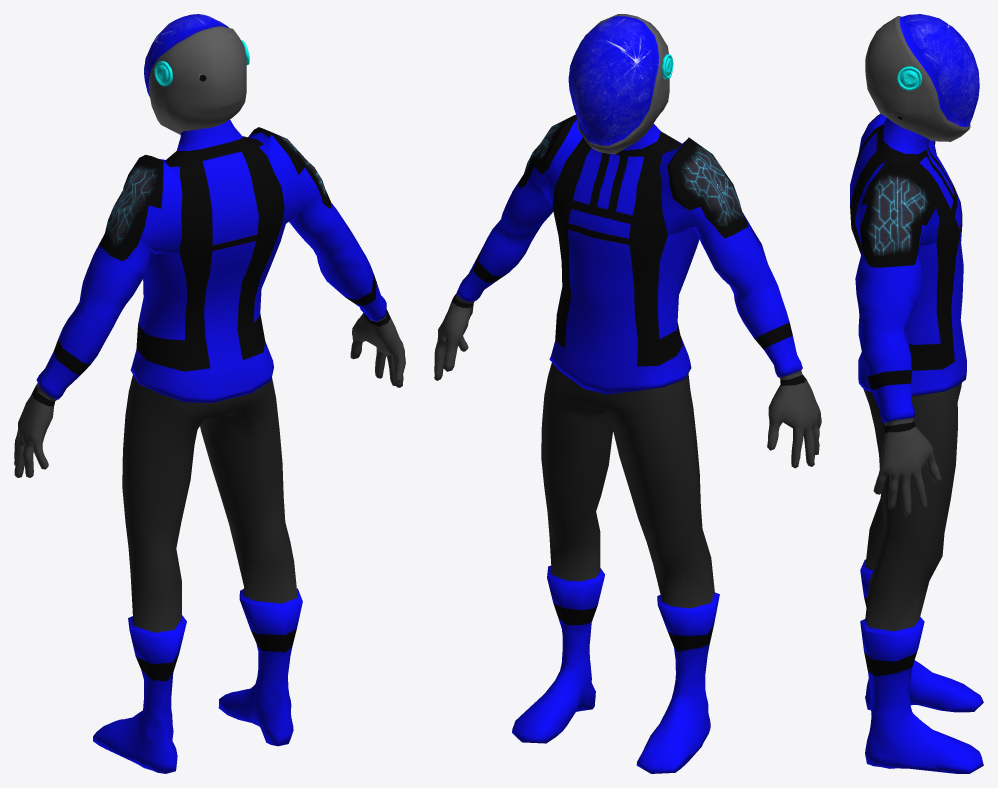
File: personaje2.obj
3 views of the same model, side by side, from view 1: azimuth 30°, elevation 25°; view 2: azimuth 150°, elevation 25°; view 3: azimuth 270°, elevation 25° (orthographic).
Parts seen in each view (by area): view 1: Piernas, Object001, Brazos1, Cabeza1; view 2: Piernas, Object001, Brazos1, Cabeza1; view 3: Piernas, Brazos1, Object001, Cabeza1.
Boxes of the visible parts, bbox=[...] form: Piernas: bbox=[93, 375, 302, 773]; Object001: bbox=[130, 119, 285, 402]; Brazos1: bbox=[14, 127, 405, 477]; Cabeza1: bbox=[144, 14, 249, 134]; Piernas: bbox=[512, 363, 719, 773]; Object001: bbox=[549, 123, 699, 394]; Brazos1: bbox=[434, 114, 821, 468]; Cabeza1: bbox=[568, 14, 673, 154]; Piernas: bbox=[860, 383, 983, 773]; Brazos1: bbox=[854, 113, 941, 516]; Object001: bbox=[850, 118, 966, 395]; Cabeza1: bbox=[865, 14, 979, 141].
Bounding box in the file's own units: 29.88 × 53.68 × 9.12.
